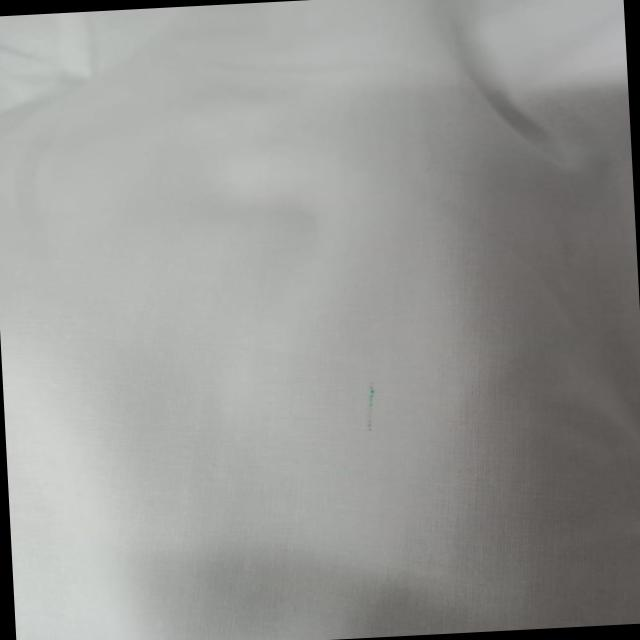contamination: (362, 374, 382, 438)
